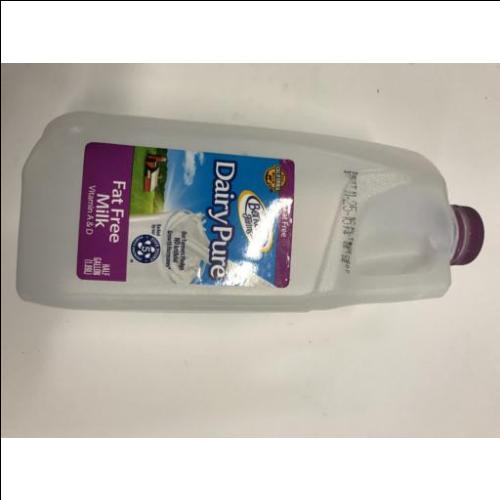plastic: (21, 112, 483, 311)
